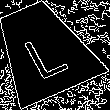L_NW: (15, 20, 71, 79)
